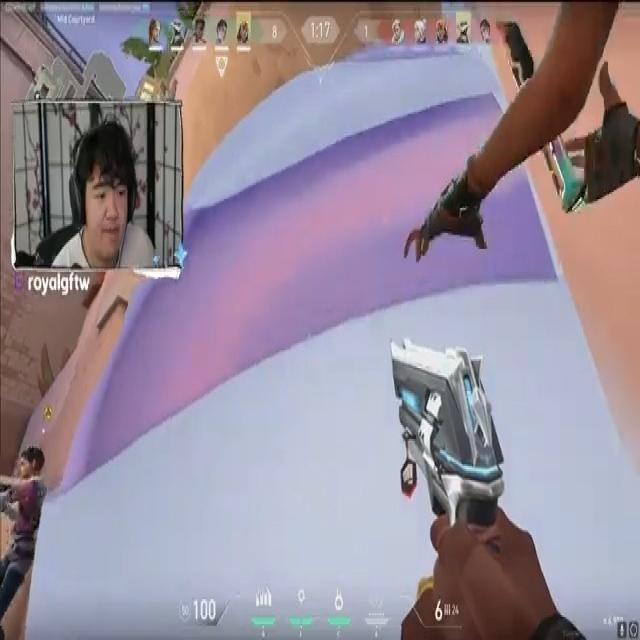smoke: (43, 29, 541, 640)
